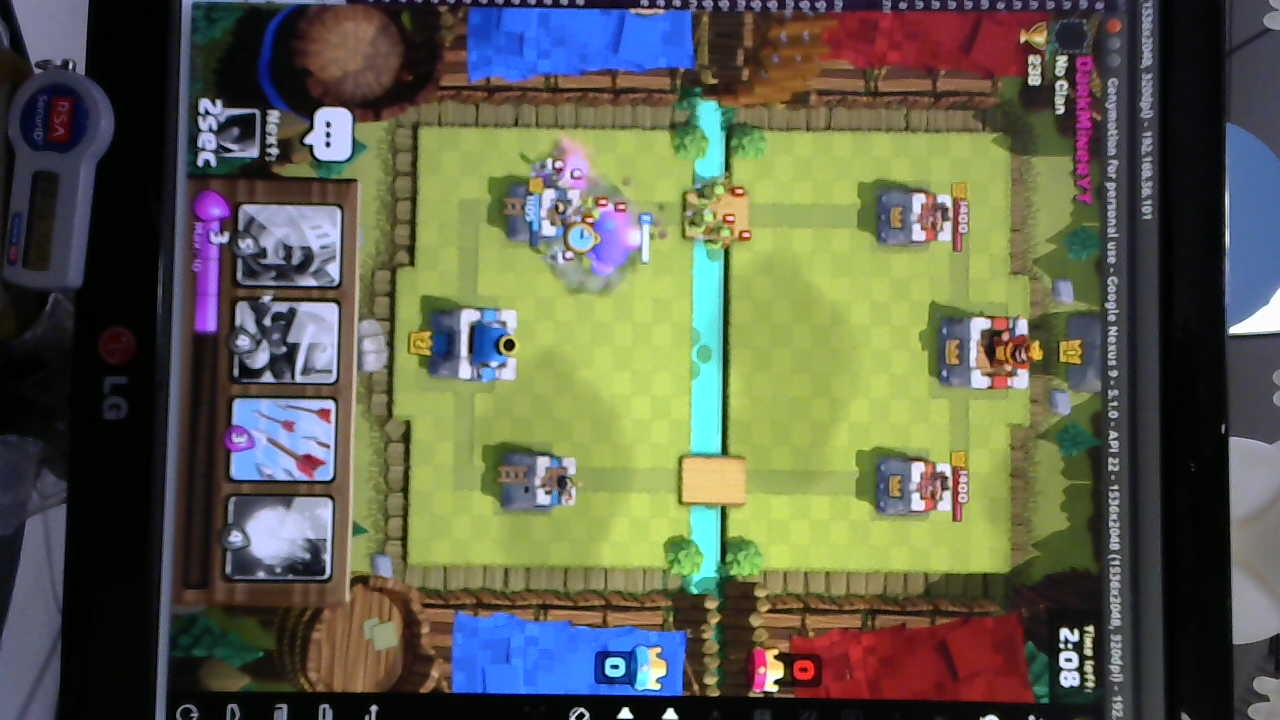arena: (496, 183, 585, 249), (501, 448, 581, 512)
earena: (876, 186, 960, 251), (876, 455, 957, 520)
eking: (942, 314, 1040, 390)
giant: (591, 209, 639, 276)
goblin: (569, 196, 621, 219)
king: (429, 304, 521, 383)
skeleton: (530, 155, 590, 189), (536, 245, 592, 266)
speargoblins: (685, 178, 752, 253)
